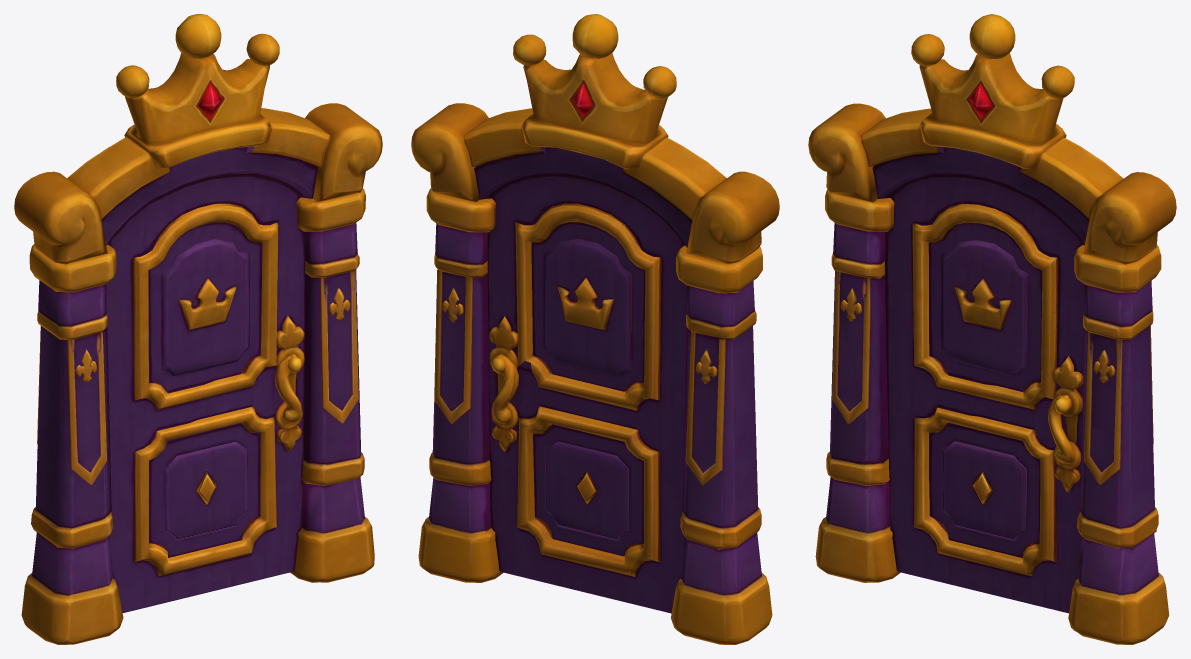
The model's file is porte_royal.glb.
3 renders of one model, left to right at view 1: azimuth 30°, elevation 25°; view 2: azimuth 150°, elevation 25°; view 3: azimuth 330°, elevation 25°, orthographic.
Parts seen in each view (by area): view 1: geometry_0; view 2: geometry_0; view 3: geometry_0.
Boxes of the visible parts, <box> form: geometry_0: <box>14,14,382,644</box>; geometry_0: <box>411,14,779,644</box>; geometry_0: <box>808,14,1176,644</box>.
Bounding box in the file's own units: 0.5854 × 0.9507 × 0.1245.
1 material, 1 textured.
